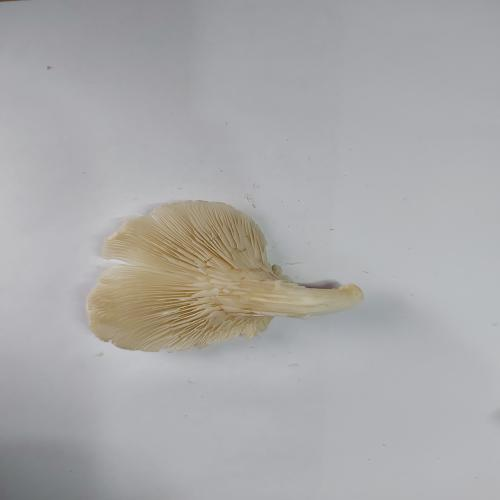Oyster Mushroom: (85, 199, 364, 353)
